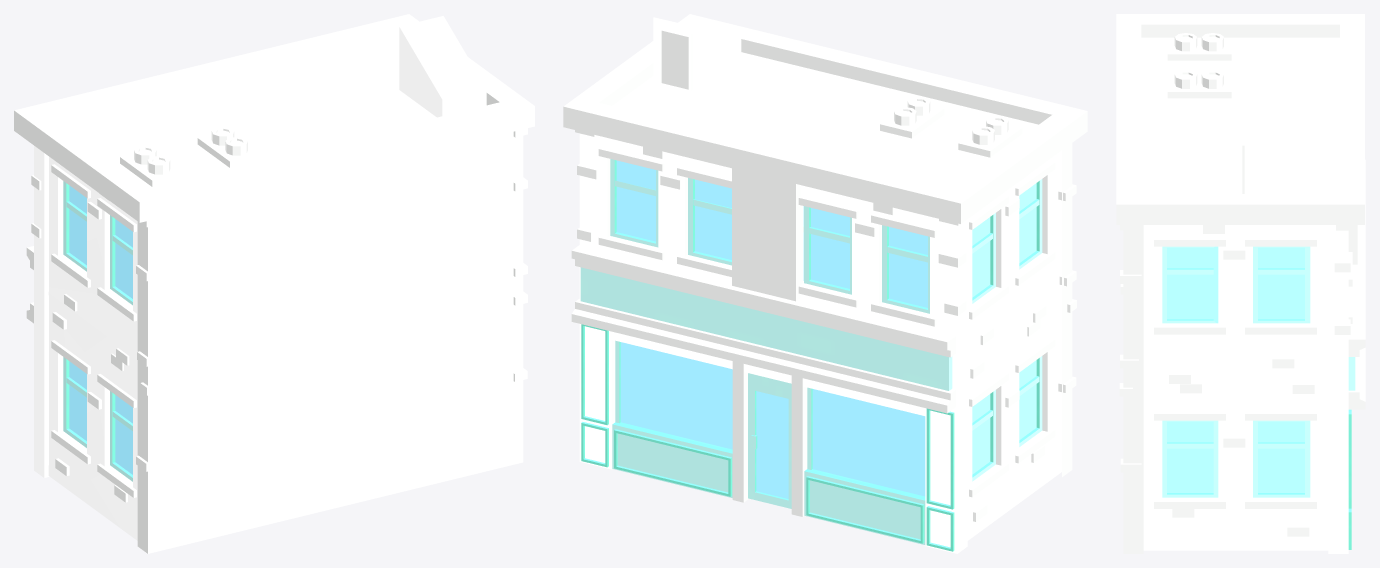
The model's file is dwelling&store.003.glb.
3 views of the same model, side by side, from view 1: azimuth 30°, elevation 25°; view 2: azimuth 150°, elevation 25°; view 3: azimuth 270°, elevation 25° (orthographic).
Parts seen in each view (by area): view 1: dwelling&store.003(Clone); view 2: dwelling&store.003(Clone); view 3: dwelling&store.003(Clone).
Boxes of the visible parts, x1,y1,x2,y2 form: dwelling&store.003(Clone): [14, 14, 534, 553]; dwelling&store.003(Clone): [563, 14, 1087, 553]; dwelling&store.003(Clone): [1116, 14, 1365, 553].
Bounding box in the file's own units: 7.08 × 6.98 × 3.92.
1 material, 1 textured.
